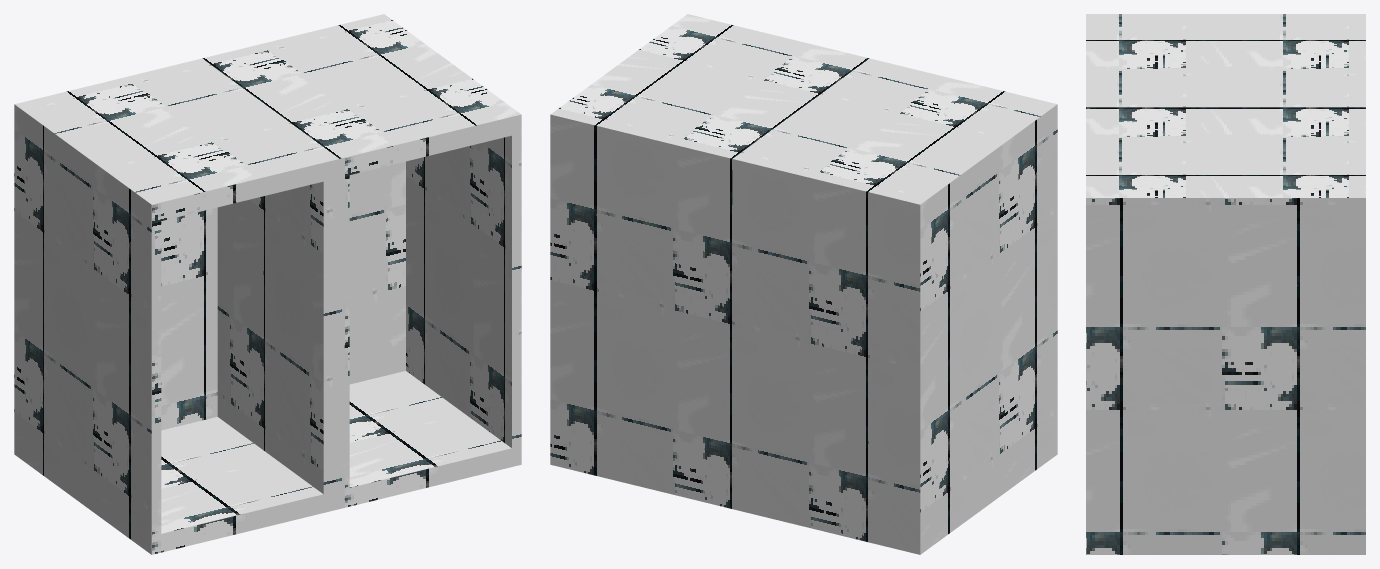
The model's file is CupBoardBody.FBX.
3 views of the same model, side by side, from view 1: azimuth 30°, elevation 25°; view 2: azimuth 150°, elevation 25°; view 3: azimuth 270°, elevation 25° (orthographic).
Visible parts, largest first — view 1: CupBoardBody; view 2: CupBoardBody; view 3: CupBoardBody.
Part boxes in pixels (x1,y1,x2,y2): CupBoardBody: (14, 14, 521, 554); CupBoardBody: (550, 14, 1057, 554); CupBoardBody: (1086, 14, 1365, 554).
Bounding box in the file's own units: 1.14 × 0.7331 × 1.03.
1 material, 1 textured.
